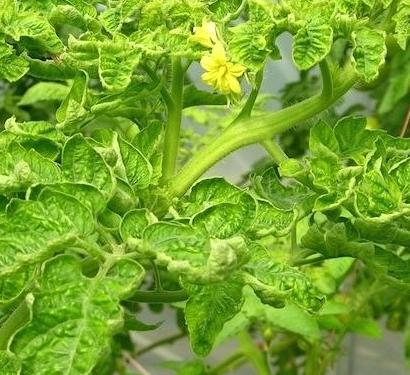Tomato leaf yellow virus: (117, 176, 286, 281), (16, 250, 134, 375), (66, 24, 213, 114), (0, 130, 116, 224), (0, 191, 86, 298), (165, 263, 252, 363), (224, 0, 299, 74), (349, 153, 410, 225), (0, 1, 68, 65), (98, 137, 162, 192), (345, 19, 393, 92), (284, 21, 338, 82)
